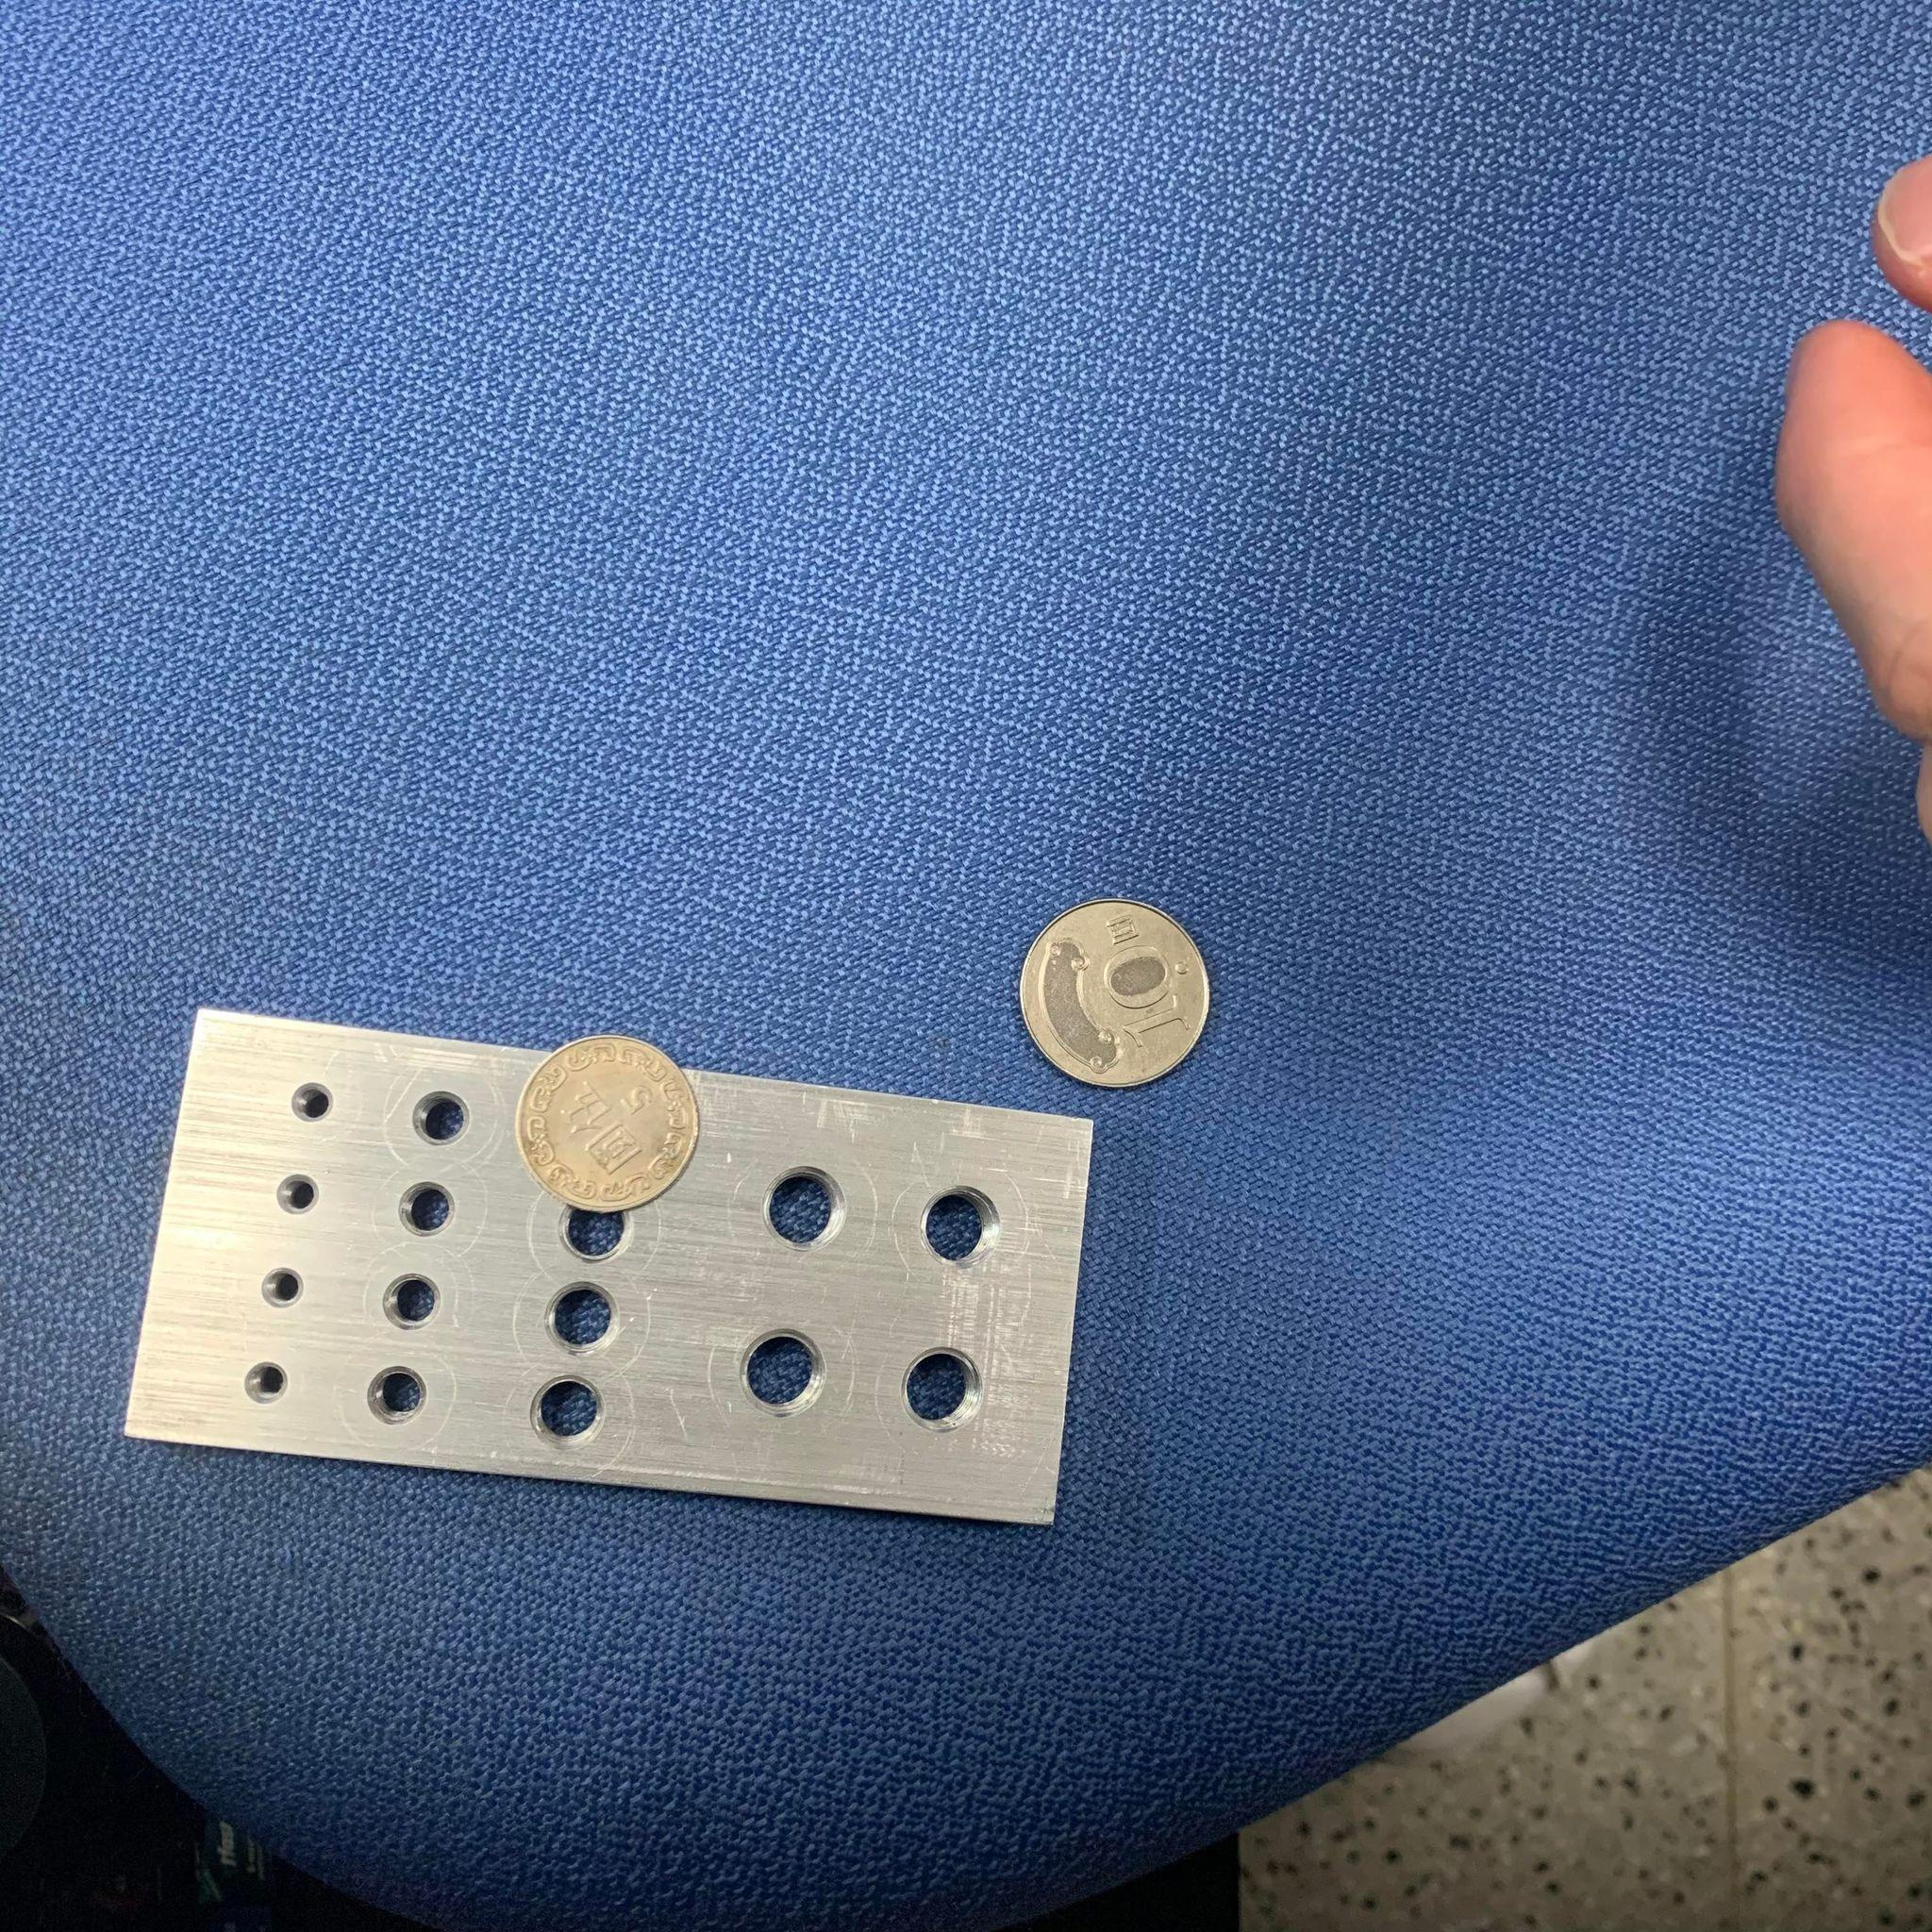hole: (738, 1323, 824, 1426), (895, 1345, 984, 1438), (915, 1180, 1001, 1276), (759, 1166, 846, 1254), (538, 1284, 619, 1359), (527, 1373, 602, 1453), (375, 1272, 441, 1332), (407, 1090, 469, 1152), (361, 1368, 425, 1428), (393, 1180, 453, 1242), (557, 1215, 632, 1265), (255, 1263, 304, 1313), (239, 1361, 287, 1408), (283, 1081, 334, 1125), (271, 1175, 317, 1217)
